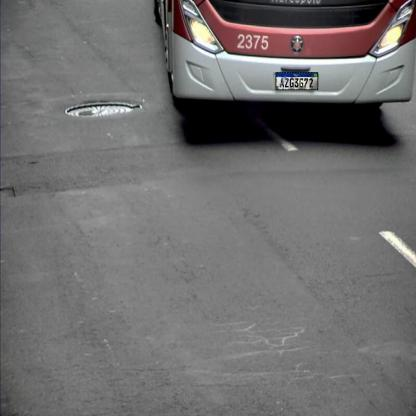PlacaM: (276, 72, 318, 90)
